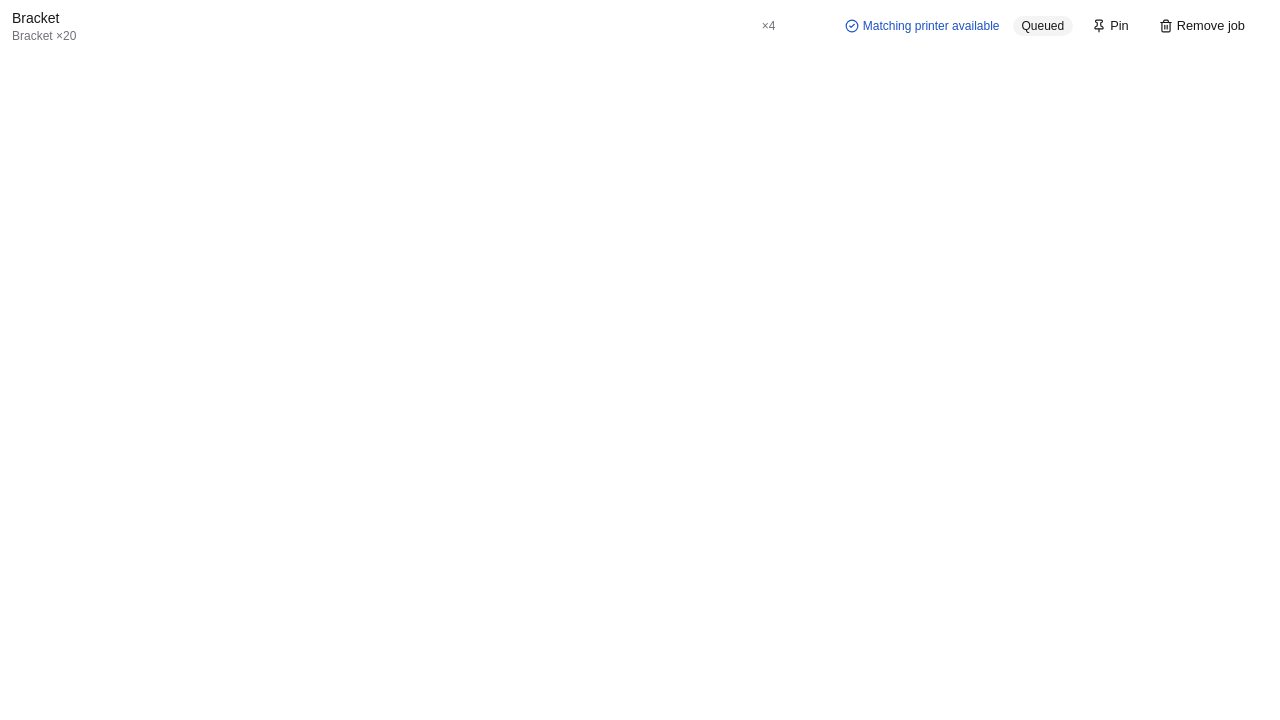
Test: QueueJobRow › opens diagnosis from the matching field (blocked=false)
Click the button "Matching printer available": (919, 26) x1=838 y1=17 x2=1001 y2=35
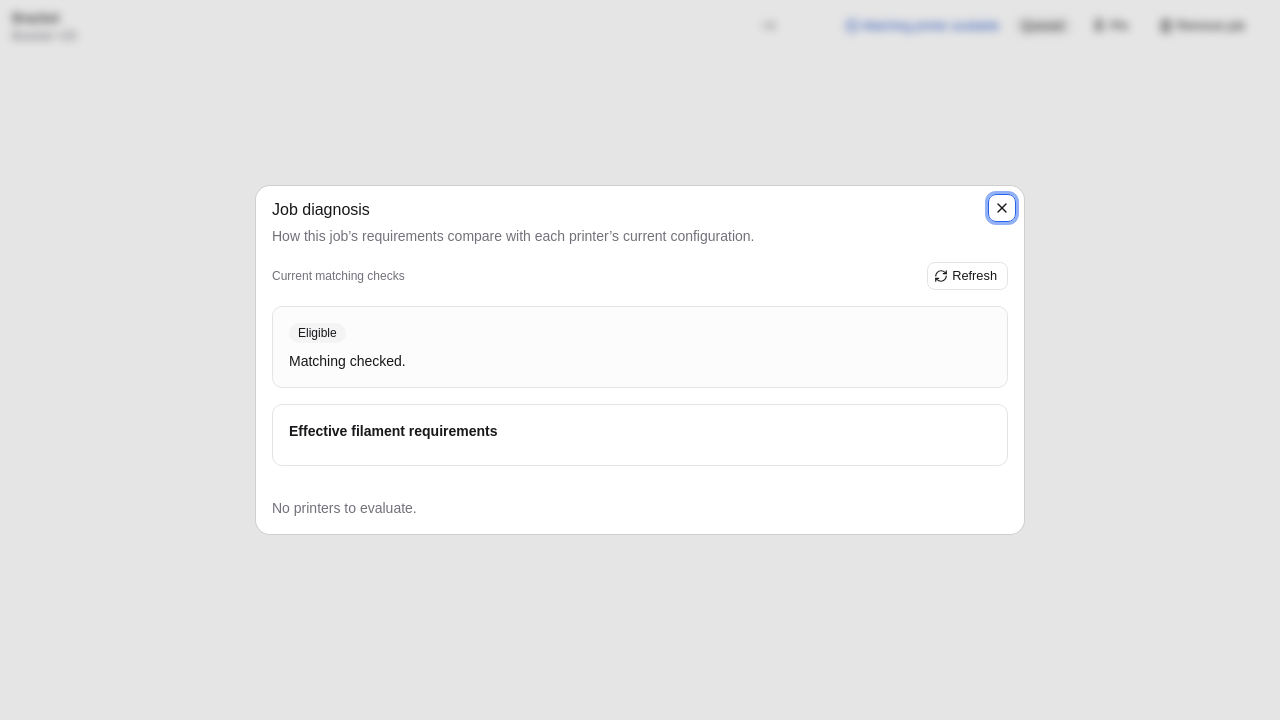
Check: the text "Matching checked." is shown, box x1=289 y1=353 x2=406 y2=369
Check: the dialog "Job diagnosis" is shown, box x1=256 y1=186 x2=1024 y2=534
